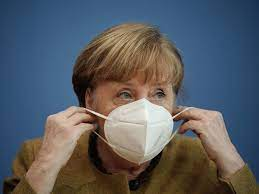with_mask: (105, 81, 171, 151)
